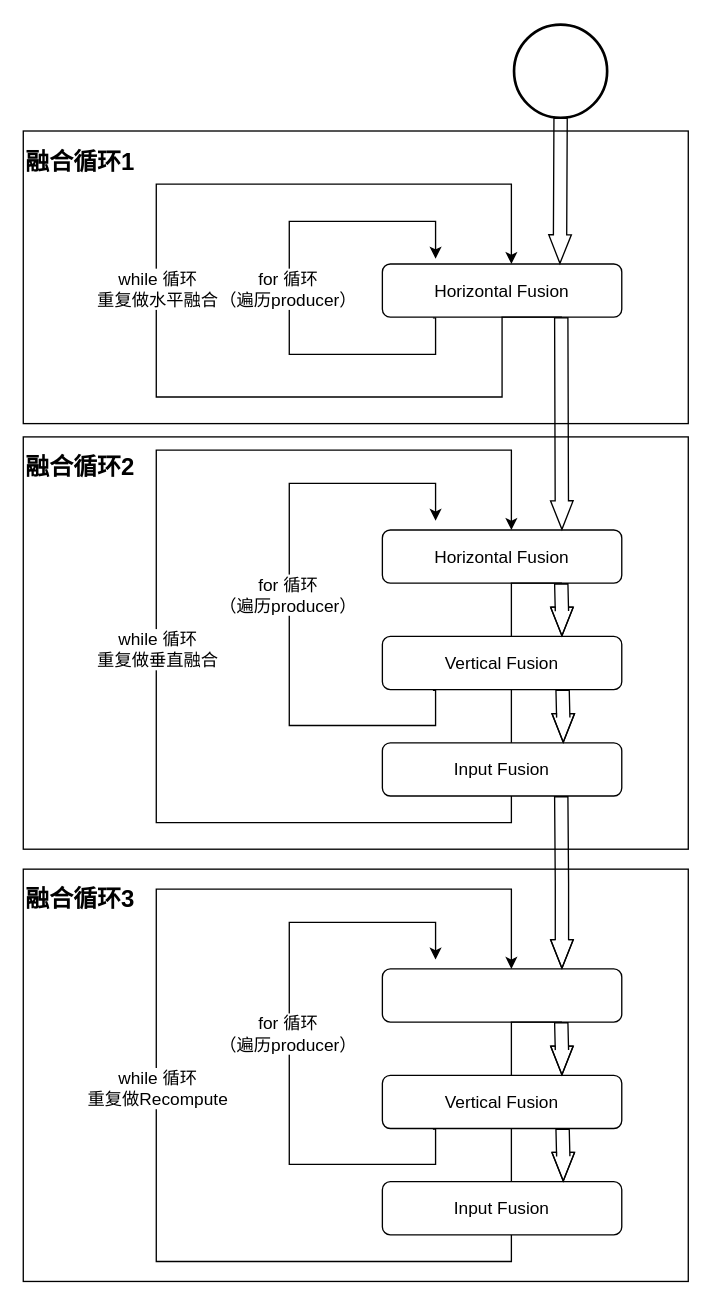
The diagram is 712 pixels wide and 1305 high, and some of its shapes have lost their labels. The centre of each missing label's shape, as x and y in pixels:
"Recompute Fusion" belongs at point 501,995.
"开始" belongs at point 560,70.
